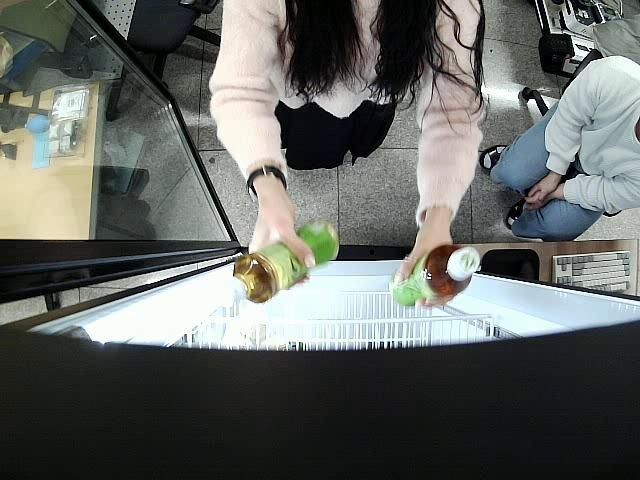19_17cha: (222, 222, 339, 310), (390, 245, 479, 308)
